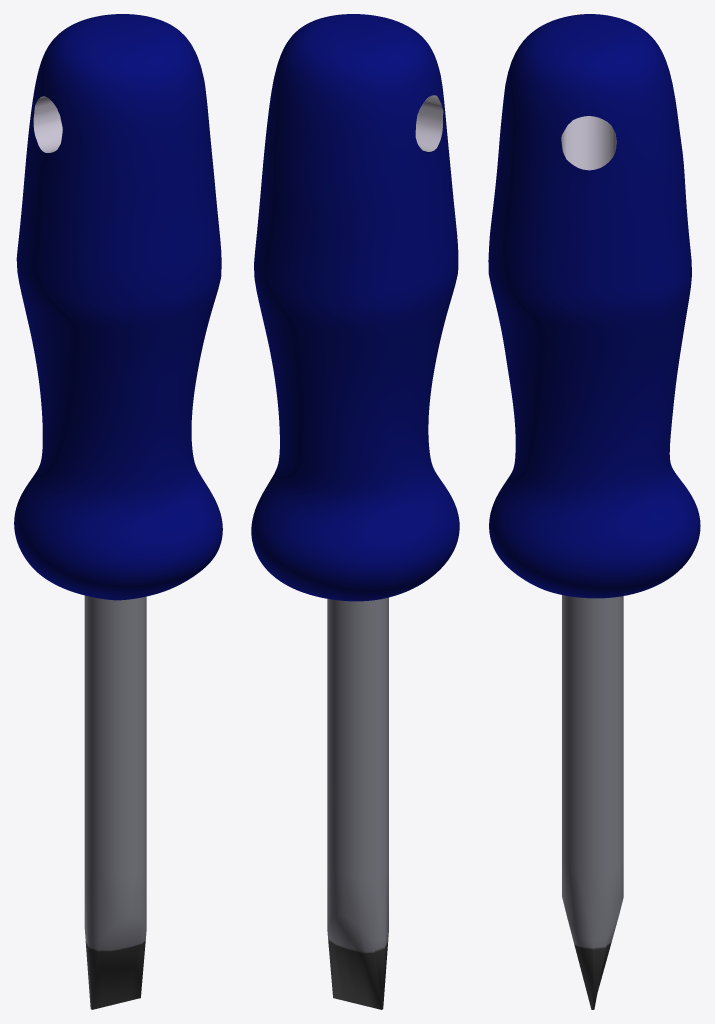
Rendered from CsavarhúzóEgyenes.fbx.
3 renders of one model, left to right at view 1: azimuth 30°, elevation 25°; view 2: azimuth 150°, elevation 25°; view 3: azimuth 270°, elevation 25°, orthographic.
Visible parts, largest first — view 1: Csavarhuz_lapos; view 2: Csavarhuz_lapos; view 3: Csavarhuz_lapos.
Part boxes in pixels (x1,y1,x2,y2): Csavarhuz_lapos: (14,14,222,1009); Csavarhuz_lapos: (251,14,459,1009); Csavarhuz_lapos: (488,14,700,1009).
Size of the model in its own units: 178 by 934 by 185.
